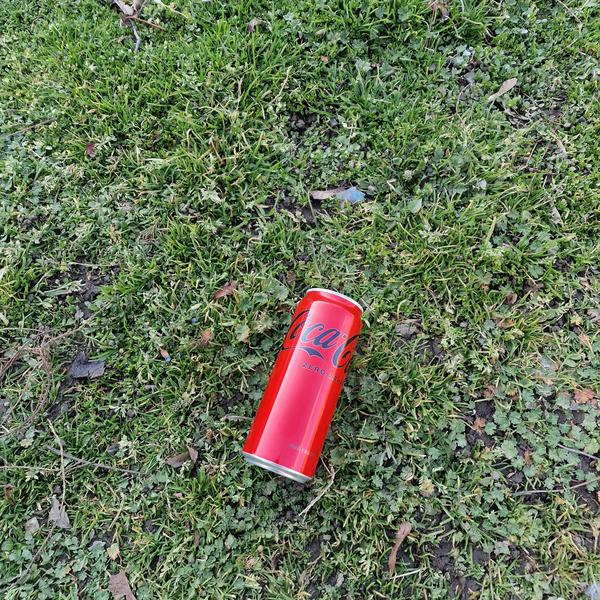can: (238, 279, 372, 486)
